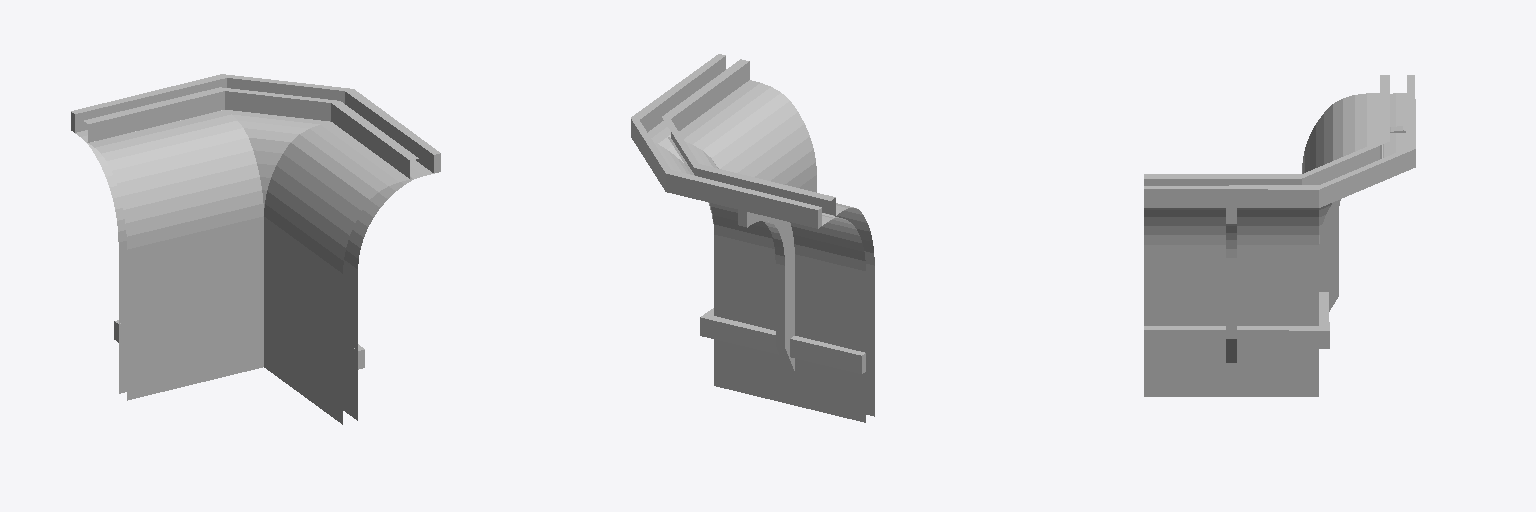
File: Overhang_Plaster_Corner.obj
The picture shows the model from 3 angles: view 1: azimuth 30°, elevation 25°; view 2: azimuth 150°, elevation 25°; view 3: azimuth 270°, elevation 25°; orthographic projection.
Visible parts, largest first — view 1: Overhang_Plaster_Corner; view 2: Overhang_Plaster_Corner; view 3: Overhang_Plaster_Corner.
Part boxes in pixels (x1,y1,x2,y2): Overhang_Plaster_Corner: (71, 74, 440, 424); Overhang_Plaster_Corner: (631, 54, 874, 422); Overhang_Plaster_Corner: (1144, 75, 1415, 396).
Size of the model in its own units: 3.1 by 3.12 by 3.1.